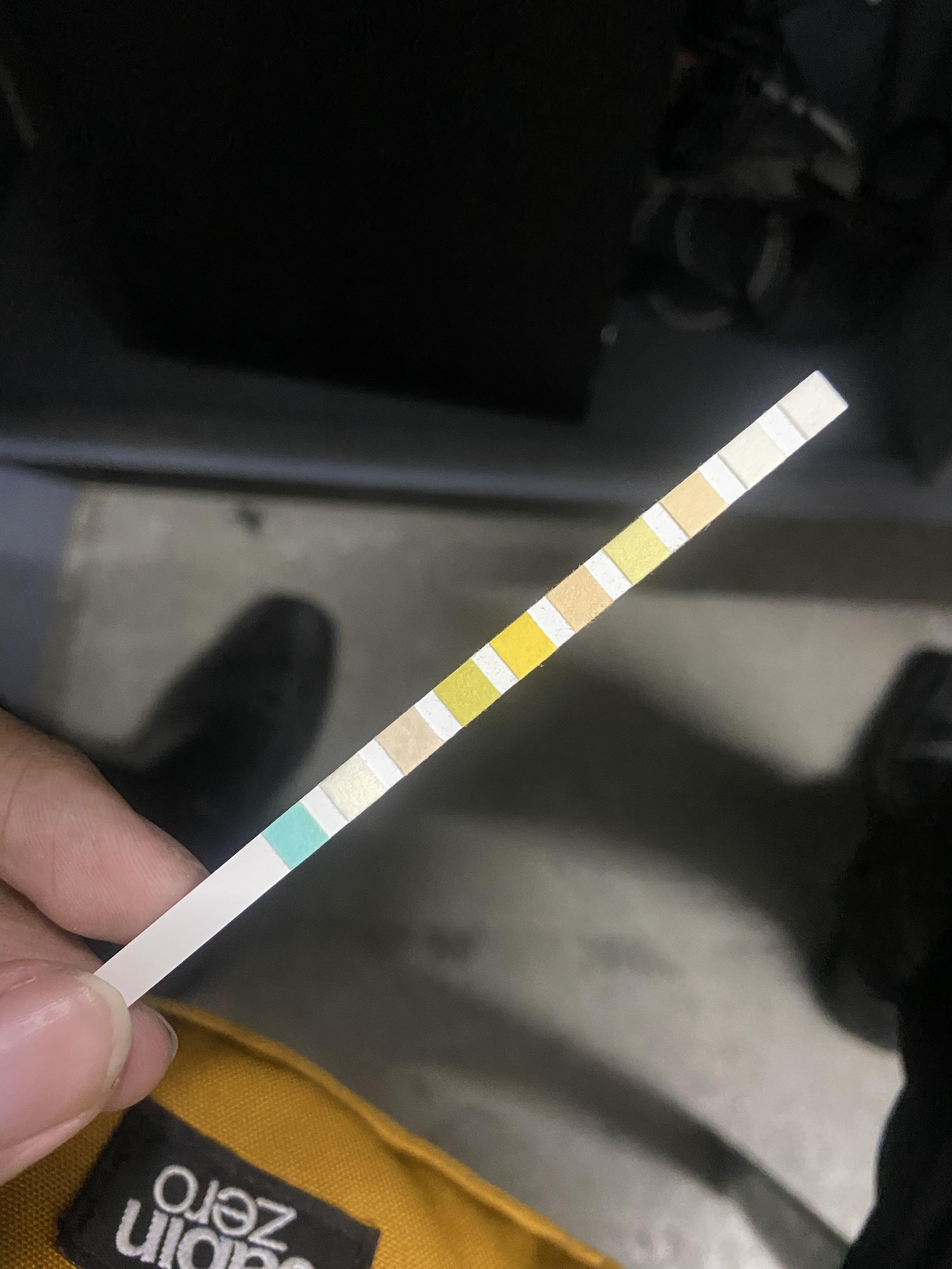Bilirubin: (335, 770, 370, 805)
Blood: (504, 630, 542, 663)
Glucose: (278, 817, 313, 855)
Ketone: (392, 723, 427, 758)
Leukocytes: (797, 387, 830, 422)
Nitrite: (735, 438, 771, 472)
Protein: (620, 533, 655, 570)
SpGravity: (448, 675, 485, 711)
Urobilinogen: (676, 487, 711, 522)
pH: (562, 582, 599, 616)
strip: (95, 371, 850, 1007)
